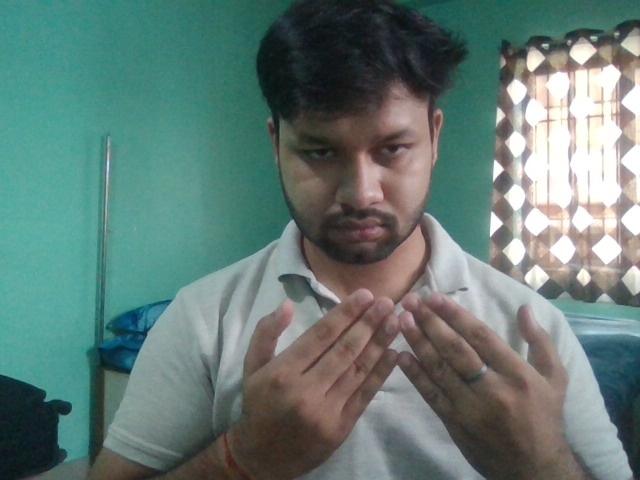Thank You: (236, 283, 572, 480)
